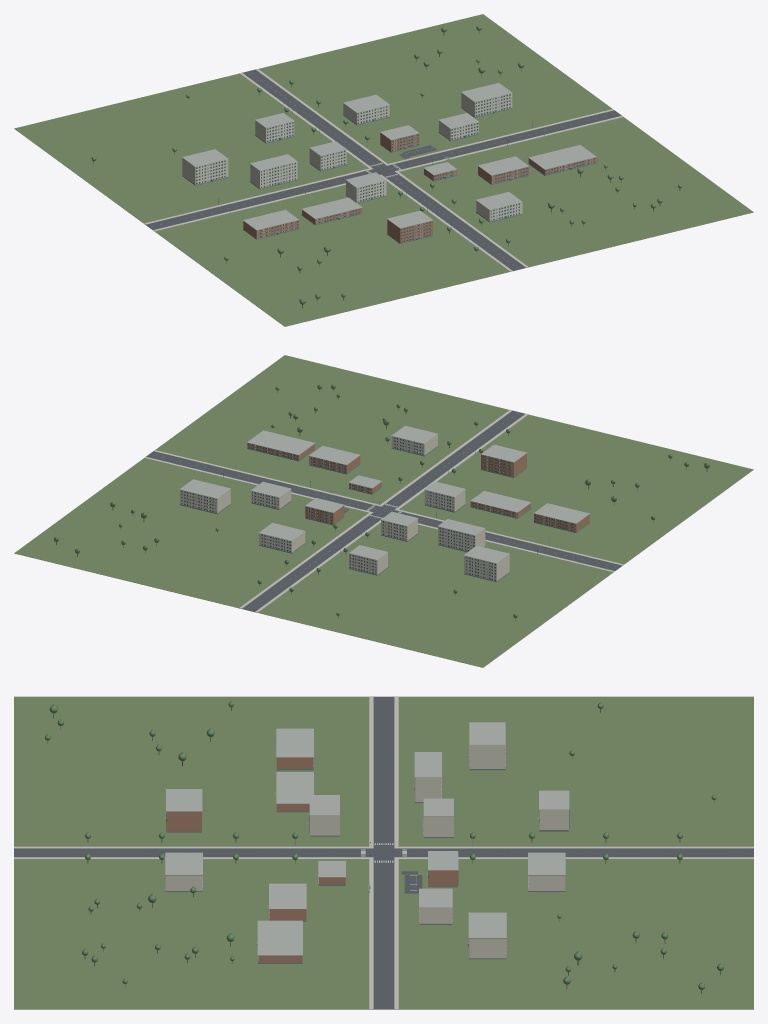
The model's file is DS_District.glb.
3 views of the same model, one above another, from view 1: azimuth 30°, elevation 25°; view 2: azimuth 150°, elevation 25°; view 3: azimuth 270°, elevation 25° (orthographic). The views are drawn at different scales.
Parts seen in each view (by area): view 1: Terrain, RoadSurface.003, RoadSurface, RoadSurface.001, RoadSurface.002, FlatRoof.011, BuildingMass.004, BuildingMass.008, BuildingMass.009, FlatRoof.006, BuildingMass.014, FlatRoof.010 (+8 smaller); view 2: Terrain, RoadSurface, RoadSurface.001, RoadSurface.003, RoadSurface.002, FlatRoof.011, BuildingMass.008, BuildingMass.004, BuildingMass.009, FlatRoof.006, BuildingMass.014, FlatRoof.010 (+7 smaller); view 3: Terrain, RoadSurface.002, RoadSurface.003, RoadSurface, RoadSurface.001, FlatRoof.011, FlatRoof.006, FlatRoof.010, Sidewalk, Sidewalk.002, FlatRoof.009, FlatRoof.007 (+26 smaller).
Boxes of the visible parts, x1,y1,x2,y2 form: Terrain: (14,14,753,326); RoadSurface.003: (387,110,621,171); RoadSurface: (382,171,525,270); RoadSurface.001: (242,69,386,168); RoadSurface.002: (146,169,380,229); FlatRoof.011: (528,145,596,169); BuildingMass.004: (250,162,297,188); BuildingMass.008: (182,158,228,184); BuildingMass.009: (461,93,512,116); FlatRoof.006: (301,197,362,219); BuildingMass.014: (387,219,432,242); FlatRoof.010: (243,209,298,230); Terrain: (14,355,753,667); RoadSurface: (381,410,525,509); RoadSurface.001: (242,512,385,611); RoadSurface.003: (146,451,380,512); RoadSurface.002: (392,510,621,570); FlatRoof.011: (247,430,315,455); BuildingMass.008: (464,554,509,581); BuildingMass.004: (438,526,485,551); BuildingMass.009: (180,489,230,513); FlatRoof.006: (470,491,531,512); BuildingMass.014: (481,453,526,476); FlatRoof.010: (533,503,589,523); Terrain: (14,696,753,1009); RoadSurface.002: (373,696,394,848); RoadSurface.003: (373,857,394,1009); RoadSurface: (14,848,373,856); RoadSurface.001: (394,848,753,856); FlatRoof.011: (257,920,302,955); FlatRoof.006: (276,772,313,803); FlatRoof.010: (276,728,313,757); Sidewalk: (14,846,373,848); Sidewalk.002: (395,846,753,848); FlatRoof.009: (468,912,506,938); FlatRoof.007: (269,883,306,908).
Bounding box in the file's own units: 500 × 19.48 × 500.
